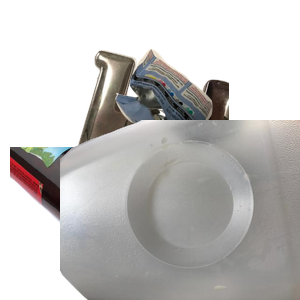glass: (10, 147, 207, 300)
metal: (60, 47, 300, 227)
plastic: (60, 120, 300, 300)
trash: (113, 46, 300, 189)
